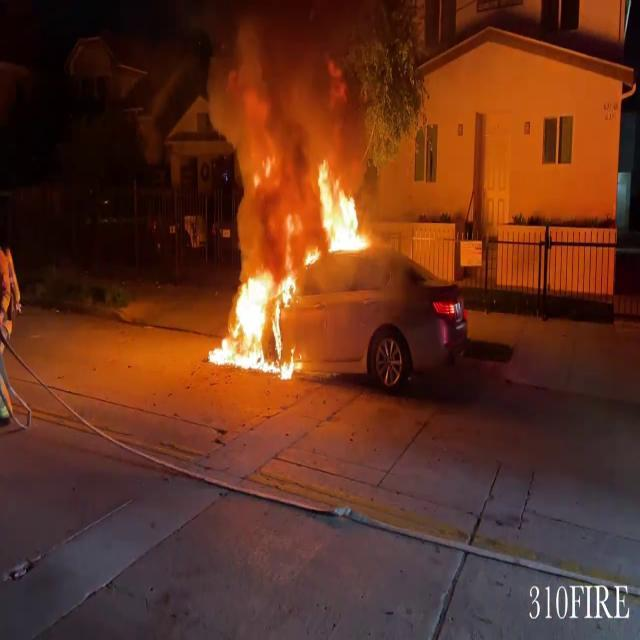Fire: (210, 236, 320, 374), (310, 158, 376, 258)
Smoke: (202, 0, 382, 225)
